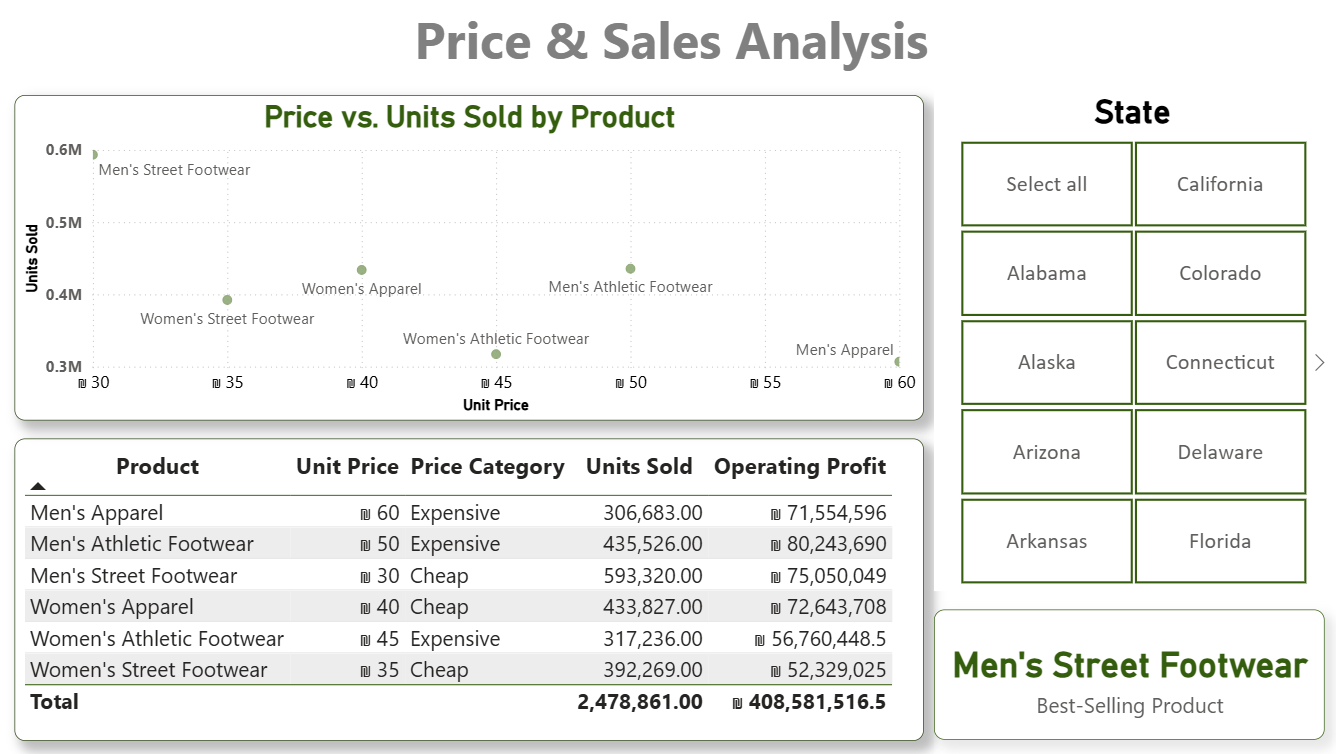

The dashboard page shown, as its layout file describes it:
{"tool":"powerbi","page":{"name":"Price & Sales Analysis","canvas":[1280,720],"ordinal":4},"visuals":[{"type":"textbox","box":[272,0,740,84],"z":0},{"type":"tableEx","fields":{"Values":["Dim_Product.Product","Dim_Product.Price per Unit","MeasuresTable.Type Price_Of_FootWear","Sum(Fact_Sales.Units Sold)","Sum(Fact_Sales.Operating Profit)"]},"box":[16,418,866,288],"z":1000},{"type":"scatterChart","title":"Price vs. Units Sold by Product","fields":{"X":["Dim_Product.Price per Unit"],"Y":["Sum(Fact_Sales.Units Sold)"],"Category":["Dim_Product.Product"]},"box":[16,92,866,310],"z":2000},{"type":"card","fields":{"Values":["MeasuresTable.Best Selling Product"]},"box":[892,582,372,124],"z":3000},{"type":"slicer","title":"State","fields":{"Values":["Dim_Geography.State"]},"box":[891.7,88.3,378.3,475],"z":4000}]}

Visuals, with their boxes in screenshot pixels (x1, y1, x2, y2), scaled from the page's 1280x720 canvas onto the 1336x754 screenshot:
textbox: box=[284, 0, 1056, 88]
tableEx - Dim_Product.Product x Dim_Product.Price per Unit: box=[17, 438, 921, 739]
"Price vs. Units Sold by Product" scatterChart: box=[17, 96, 921, 421]
card - MeasuresTable.Best Selling Product: box=[931, 609, 1319, 739]
"State" slicer: box=[931, 92, 1326, 590]
